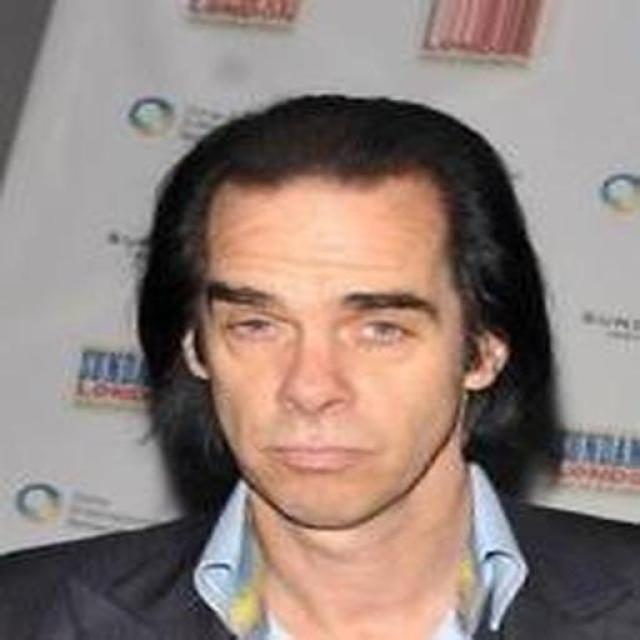bareface: (186, 122, 510, 530)
